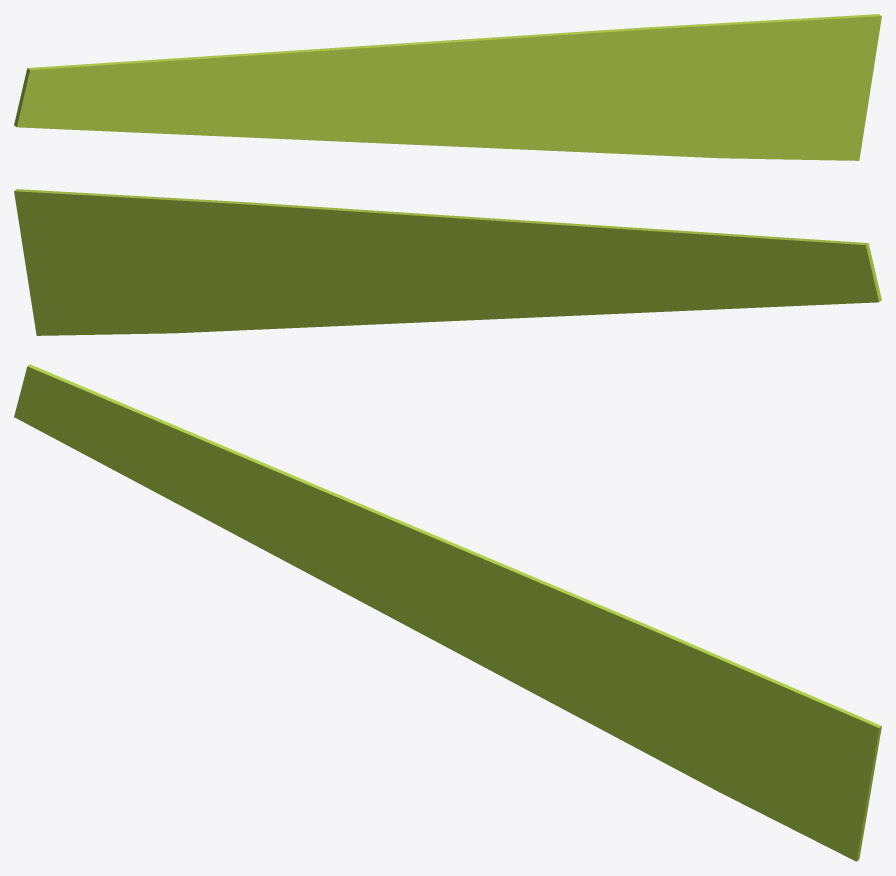
3 views of the same model, one above another, from view 1: azimuth 30°, elevation 25°; view 2: azimuth 150°, elevation 25°; view 3: azimuth 330°, elevation 25° (orthographic).
Parts seen in each view (by area): view 1: osm-way27917482-F-1; view 2: osm-way27917482-F-1; view 3: osm-way27917482-F-1.
Part boxes in pixels (x1,y1,x2,y2): osm-way27917482-F-1: [14, 14, 881, 160]; osm-way27917482-F-1: [14, 189, 881, 335]; osm-way27917482-F-1: [14, 364, 881, 861].
Bounding box in the file's own units: 26.1 × 8.45 × 0.15.
